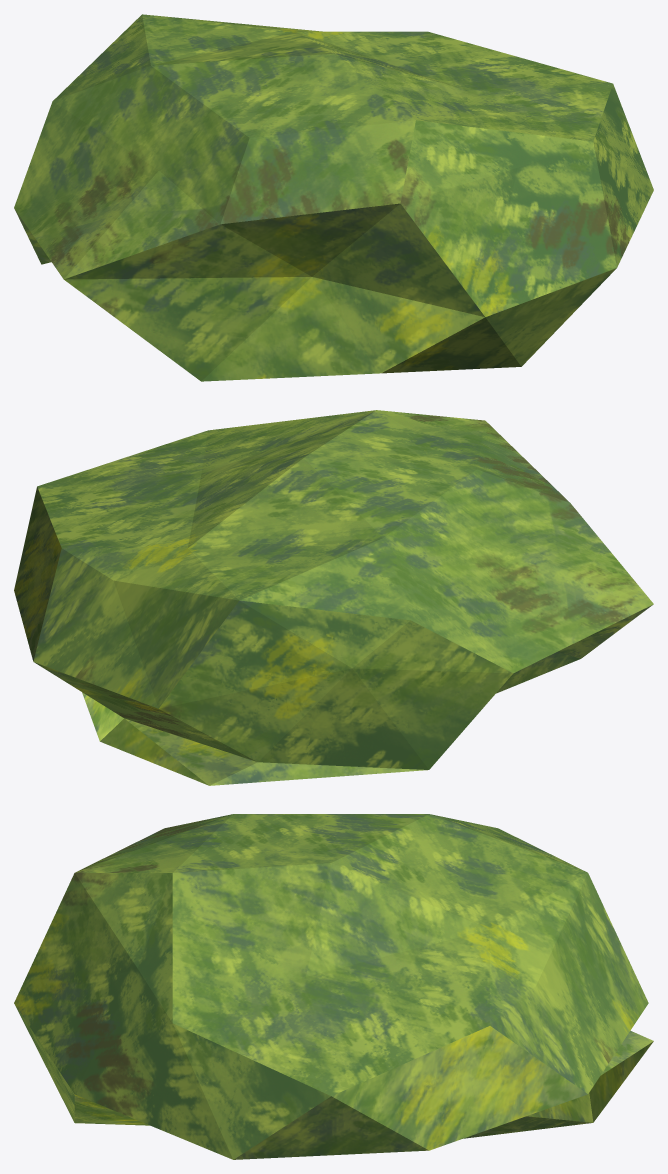
Rendered from foliage1.glb.
3 renders of one model, top to bottom at view 1: azimuth 30°, elevation 25°; view 2: azimuth 150°, elevation 25°; view 3: azimuth 270°, elevation 25°, orthographic. The views are drawn at different scales.
Visible parts, largest first — view 1: foliage1; view 2: foliage1; view 3: foliage1.
Boxes of the visible parts, x1,y1,x2,y2 form: foliage1: (14, 14, 653, 381); foliage1: (14, 410, 653, 785); foliage1: (14, 814, 653, 1159).
Size of the model in its own units: 18.91 by 7.03 by 17.61.
Materials: 1 (1 with a texture image).
